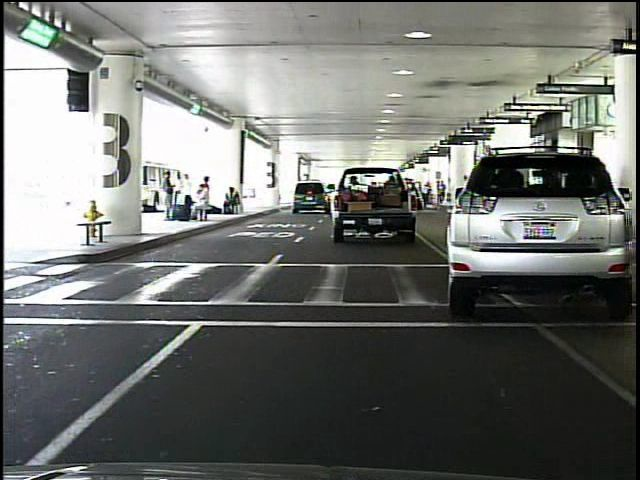person: (160, 169, 180, 221)
